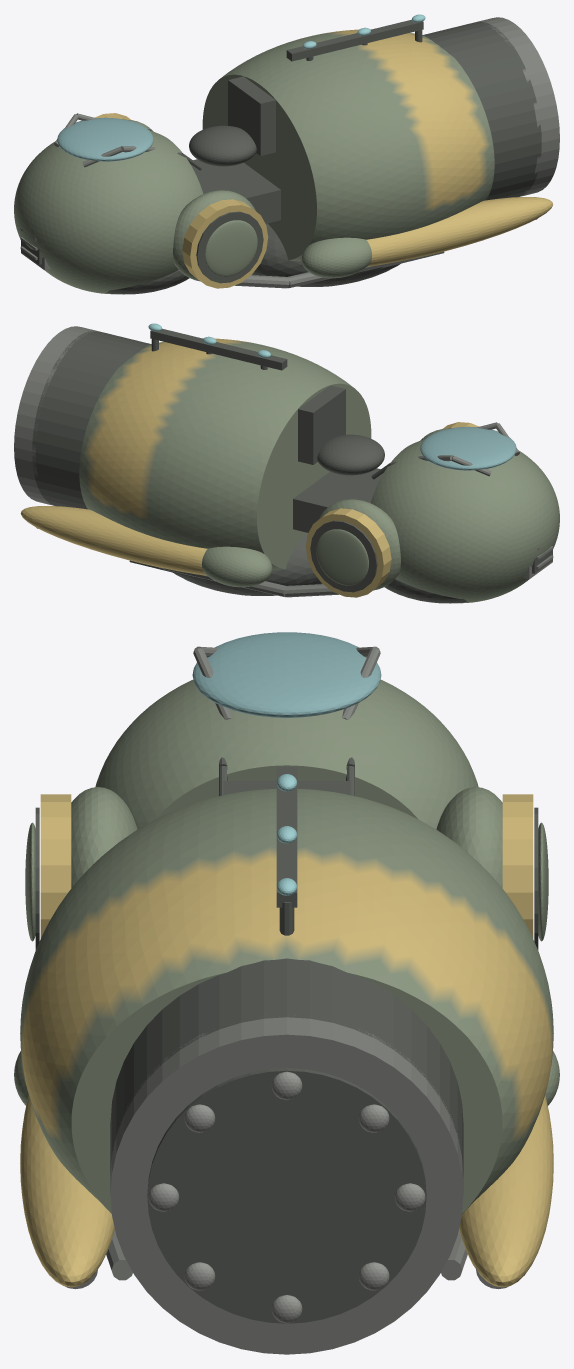
The model's file is unibomba_olive_off.glb.
3 views of the same model, one above another, from view 1: azimuth 30°, elevation 25°; view 2: azimuth 150°, elevation 25°; view 3: azimuth 270°, elevation 25° (orthographic). The views are drawn at different scales.
Visible parts, largest first — view 1: hull_rear_0, nose_1, engine_rear_housing_17, side_skid_12, main_engine_rim_18, windscreen_6, cockpit_chassis_3, seat_back_5, nacelle_gold_rim_9, skid_nose_13, nacelle_hub_11, seat_4 (+7 smaller); view 2: hull_rear_0, nose_1, engine_rear_housing_17, side_skid_12, main_engine_rim_18, windscreen_6, cockpit_chassis_3, seat_back_5, nacelle_gold_rim_9, skid_nose_13, nacelle_hub_11, seat_4 (+7 smaller); view 3: hull_rear_0, main_engine_dark_interior_19, main_engine_rim_18, nose_1, engine_rear_housing_17, side_skid_12, windscreen_6, nose_side_nacelle_8, nacelle_gold_rim_9, engine_vane_20, top_ridge_22, nacelle_hub_11 (+6 smaller).
Boxes of the visible parts, x1=… form: hull_rear_0: x1=202, y1=29, x2=494, y2=261; nose_1: x1=14, y1=130, x2=203, y2=294; engine_rear_housing_17: x1=422, y1=21, x2=541, y2=200; side_skid_12: x1=366, y1=197, x2=553, y2=266; main_engine_rim_18: x1=474, y1=17, x2=559, y2=196; windscreen_6: x1=57, y1=117, x2=153, y2=161; cockpit_chassis_3: x1=190, y1=159, x2=280, y2=223; seat_back_5: x1=228, y1=76, x2=275, y2=155; nacelle_gold_rim_9: x1=95, y1=113, x2=268, y2=288; skid_nose_13: x1=301, y1=237, x2=371, y2=278; nacelle_hub_11: x1=205, y1=220, x2=257, y2=276; seat_4: x1=189, y1=125, x2=256, y2=166; hull_rear_0: x1=79, y1=338, x2=371, y2=570; nose_1: x1=370, y1=439, x2=559, y2=603; engine_rear_housing_17: x1=32, y1=330, x2=151, y2=509; side_skid_12: x1=20, y1=506, x2=207, y2=575; main_engine_rim_18: x1=14, y1=326, x2=100, y2=505; windscreen_6: x1=420, y1=426, x2=516, y2=470; cockpit_chassis_3: x1=293, y1=468, x2=383, y2=532; seat_back_5: x1=298, y1=385, x2=345, y2=464; nacelle_gold_rim_9: x1=305, y1=422, x2=478, y2=597; skid_nose_13: x1=202, y1=546, x2=272, y2=587; nacelle_hub_11: x1=316, y1=529, x2=368, y2=585; seat_4: x1=317, y1=434, x2=384, y2=475; hull_rear_0: x1=20, y1=788, x2=553, y2=1213; main_engine_dark_interior_19: x1=147, y1=1068, x2=426, y2=1323; main_engine_rim_18: x1=110, y1=1014, x2=463, y2=1354; nose_1: x1=95, y1=680, x2=478, y2=829; engine_rear_housing_17: x1=110, y1=958, x2=463, y2=1176; side_skid_12: x1=20, y1=1095, x2=553, y2=1287; windscreen_6: x1=192, y1=632, x2=381, y2=717; nose_side_nacelle_8: x1=71, y1=787, x2=502, y2=888; nacelle_gold_rim_9: x1=40, y1=794, x2=533, y2=938; engine_vane_20: x1=148, y1=1071, x2=425, y2=1323; top_ridge_22: x1=276, y1=767, x2=297, y2=907; nacelle_hub_11: x1=25, y1=822, x2=548, y2=941.
Size of the model in its own units: 5.45 by 2.47 by 2.66.
